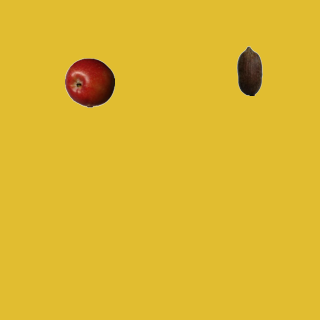Apple Braeburn: (64, 57, 114, 107)
Nut Pecan: (224, 45, 274, 95)
